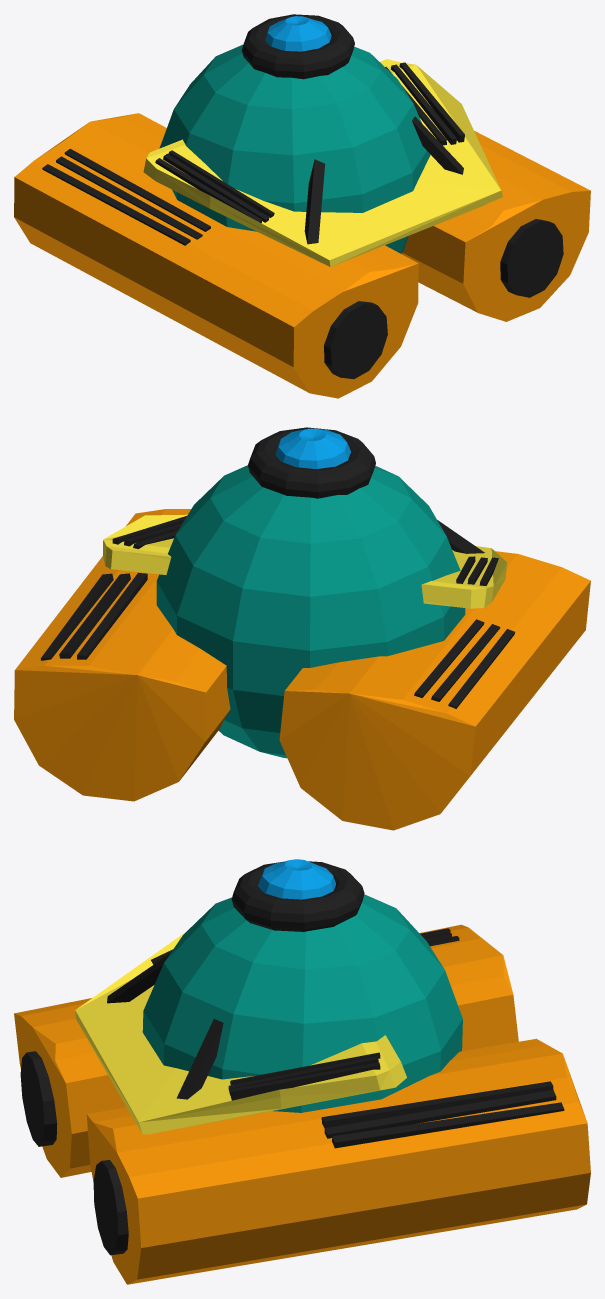
3 views of the same model, one above another, from view 1: azimuth 30°, elevation 25°; view 2: azimuth 150°, elevation 25°; view 3: azimuth 270°, elevation 25° (orthographic). The views are drawn at different scales.
Parts seen in each view (by area): view 1: mesh_648199423, mesh_1838254155, mesh_136106421, mesh_5235000, mesh_1585872979, mesh_575173876, mesh_257764565, mesh_602935042, mesh_214744520, mesh_541293239, mesh_523938752, mesh_1153006461 (+6 smaller); view 2: mesh_1838254155, mesh_648199423, mesh_136106421, mesh_5235000, mesh_1585872979, mesh_602935042, mesh_1907958409, mesh_1868017394, mesh_1827265989, mesh_541293239, mesh_214744520, mesh_523938752 (+1 smaller); view 3: mesh_136106421, mesh_1838254155, mesh_648199423, mesh_5235000, mesh_1585872979, mesh_1827265989, mesh_1907958409, mesh_257764565, mesh_575173876, mesh_1868017394, mesh_602935042, mesh_1603950025 (+4 smaller).
Part boxes in pixels (x1,y1,x2,y2): mesh_648199423: (14,113,418,398); mesh_1838254155: (159,44,430,253); mesh_136106421: (401,130,590,321); mesh_5235000: (143,59,502,266); mesh_1585872979: (241,14,354,79); mesh_575173876: (500,219,563,297); mesh_257764565: (324,301,387,379); mesh_602935042: (265,16,331,51); mesh_214744520: (42,164,190,245); mesh_541293239: (64,148,210,231); mesh_523938752: (56,156,202,239); mesh_1153006461: (304,159,325,244); mesh_1838254155: (156,465,465,758); mesh_648199423: (279,551,590,830); mesh_136106421: (14,509,230,801); mesh_5235000: (103,514,507,608); mesh_1585872979: (248,427,375,498); mesh_602935042: (275,428,350,469); mesh_1907958409: (59,573,130,658); mesh_1868017394: (77,572,147,659); mesh_1827265989: (40,573,113,660); mesh_541293239: (414,619,484,697); mesh_214744520: (448,629,515,708); mesh_523938752: (431,624,500,701); mesh_136106421: (86,1038,590,1284); mesh_1838254155: (142,894,462,1112); mesh_648199423: (14,924,518,1177); mesh_5235000: (75,931,406,1134); mesh_1585872979: (231,861,364,931); mesh_1827265989: (332,1102,564,1148); mesh_1907958409: (324,1090,556,1138); mesh_257764565: (20,1051,57,1146); mesh_575173876: (93,1160,128,1255); mesh_1868017394: (321,1081,553,1128); mesh_602935042: (258,859,335,899); mesh_1603950025: (230,1062,380,1100).
Size of the model in its own units: 93.33 by 57.7 by 90.68.
